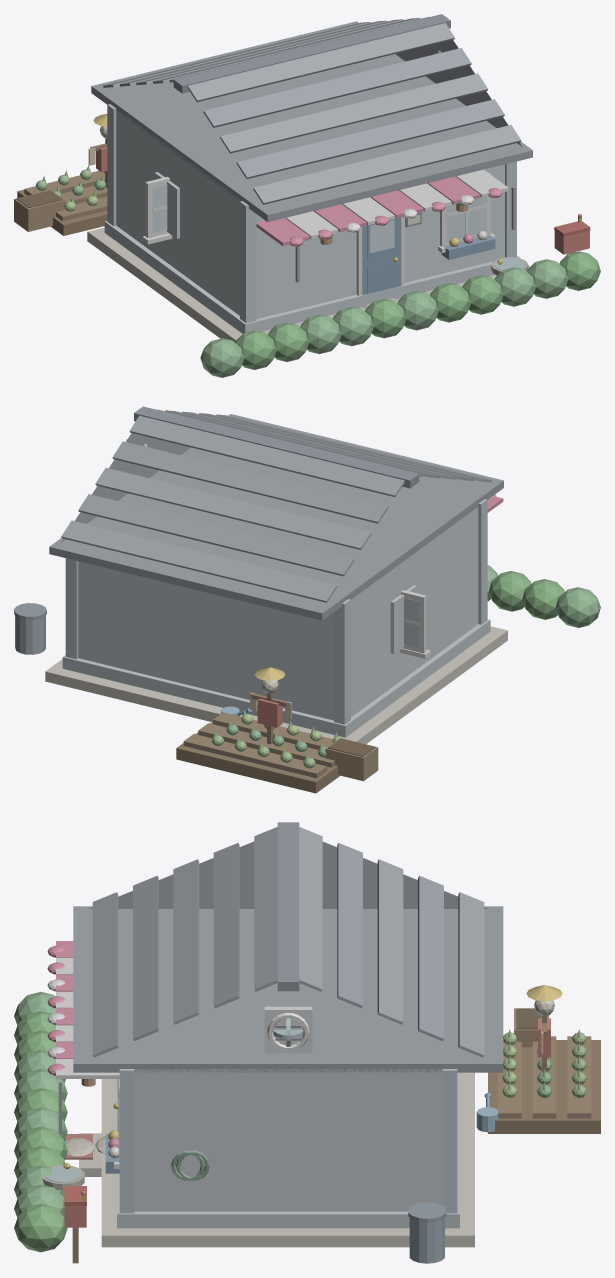
The model's file is house-b.glb.
3 views of the same model, one above another, from view 1: azimuth 30°, elevation 25°; view 2: azimuth 150°, elevation 25°; view 3: azimuth 270°, elevation 25° (orthographic). The views are drawn at different scales.
Visible parts, largest first — view 1: part_12, part_32, part_16, part_06, part_05, part_43, part_27, part_26, part_37, part_35, part_08, part_02 (+7 smaller); view 2: part_32, part_12, part_16, part_35, part_27, part_26, part_11, part_08, part_07, part_05, part_06, part_19 (+6 smaller); view 3: part_12, part_32, part_16, part_35, part_05, part_27, part_06, part_19, part_26, part_07, part_08, part_11 (+12 smaller).
Part boxes in pixels (bbox=[...]): part_12: bbox=[91, 17, 532, 221]; part_32: bbox=[116, 109, 504, 318]; part_16: bbox=[103, 17, 521, 204]; part_06: bbox=[53, 180, 568, 377]; part_05: bbox=[235, 251, 600, 369]; part_43: bbox=[142, 169, 508, 295]; part_27: bbox=[104, 221, 519, 333]; part_26: bbox=[107, 104, 516, 323]; part_37: bbox=[256, 176, 502, 246]; part_35: bbox=[87, 227, 529, 342]; part_08: bbox=[173, 14, 450, 93]; part_02: bbox=[362, 217, 495, 307]; part_32: bbox=[78, 507, 478, 720]; part_12: bbox=[49, 410, 503, 620]; part_16: bbox=[61, 409, 491, 602]; part_35: bbox=[45, 626, 507, 744]; part_27: bbox=[62, 619, 490, 737]; part_26: bbox=[65, 499, 487, 724]; part_11: bbox=[183, 712, 334, 778]; part_08: bbox=[134, 406, 419, 488]; part_07: bbox=[176, 721, 339, 793]; part_05: bbox=[489, 571, 564, 619]; part_06: bbox=[226, 565, 600, 757]; part_19: bbox=[60, 433, 190, 542]; part_12: bbox=[73, 843, 503, 1072]; part_32: bbox=[134, 1069, 442, 1211]; part_16: bbox=[92, 827, 484, 1057]; part_35: bbox=[101, 1072, 474, 1247]; part_05: bbox=[14, 1011, 67, 1252]; part_27: bbox=[117, 1072, 459, 1228]; part_06: bbox=[14, 992, 551, 1217]; part_19: bbox=[88, 841, 487, 908]; part_26: bbox=[119, 1069, 457, 1213]; part_07: bbox=[488, 1040, 600, 1133]; part_08: bbox=[275, 822, 301, 1040]; part_11: bbox=[498, 1036, 591, 1118].
Bounding box in the file's own units: 13.17 × 6.54 × 13.52.
